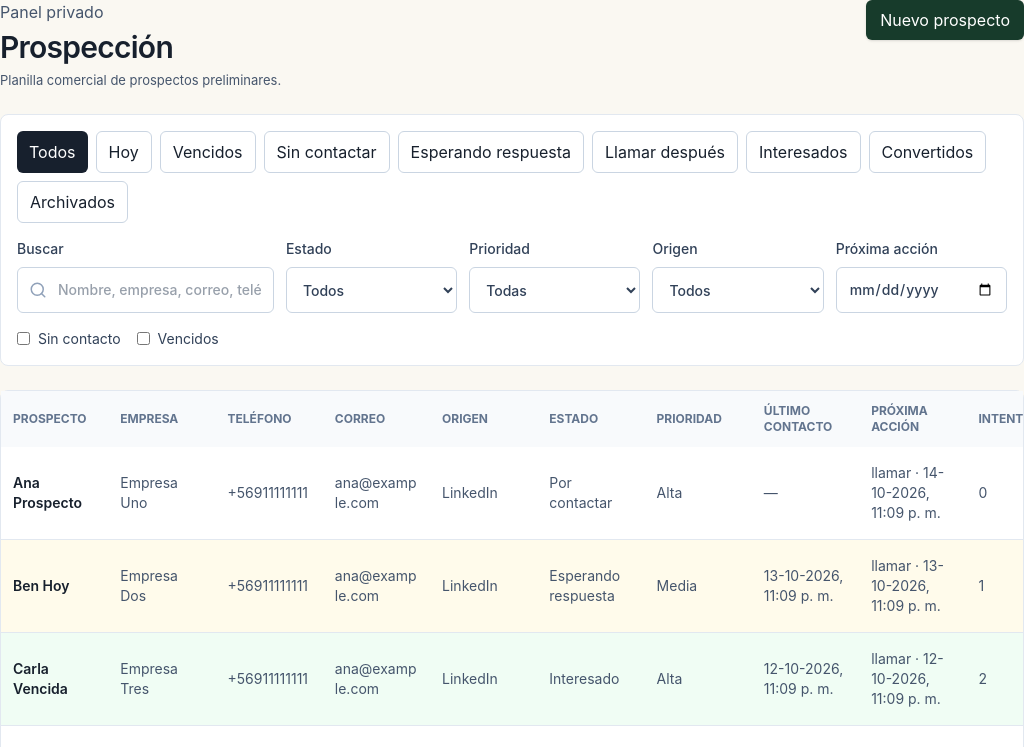
AdminProspecting › lists prospects with filters, today and overdue quick views, desktop table and mobile cards
expect the text "Ana Prospecto" is shown: met, box [1,447,108,540]
expect the column heading "Prospecto" is shown: met, box [1,391,108,447]
Click the button "Hoy" at (124, 152), box [96,131,152,173]
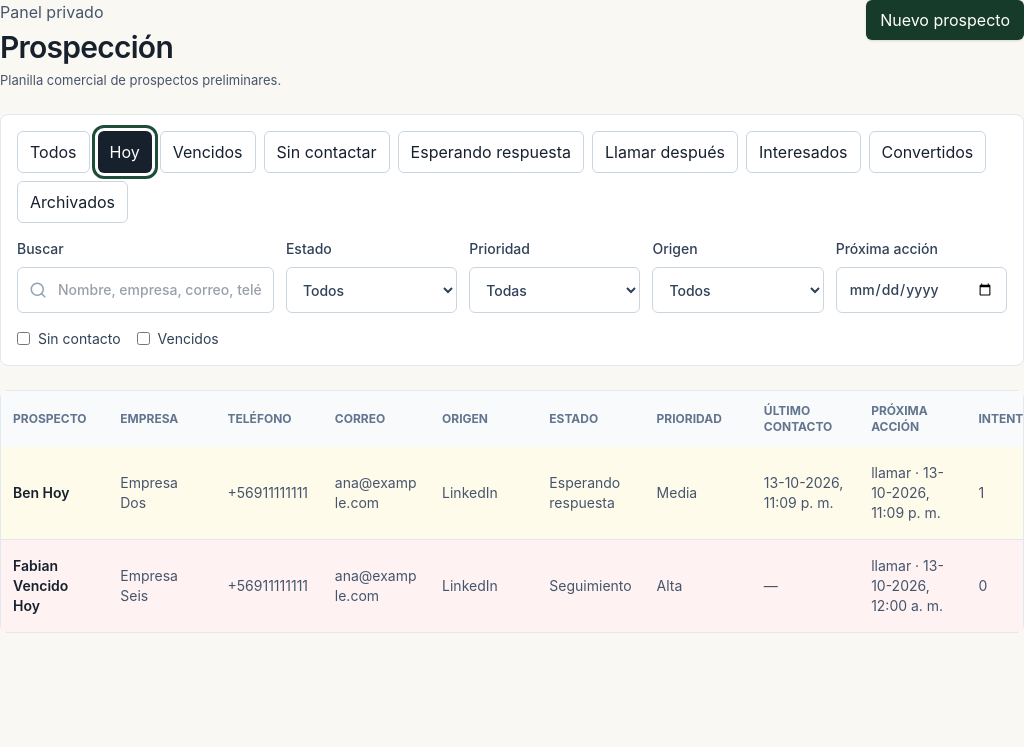
expect the text "Ben Hoy" is shown: met, box [1,447,108,540]
expect the text "Ana Prospecto" is gone: met
Click the button "Vencidos" at (208, 152), box [160,131,256,173]
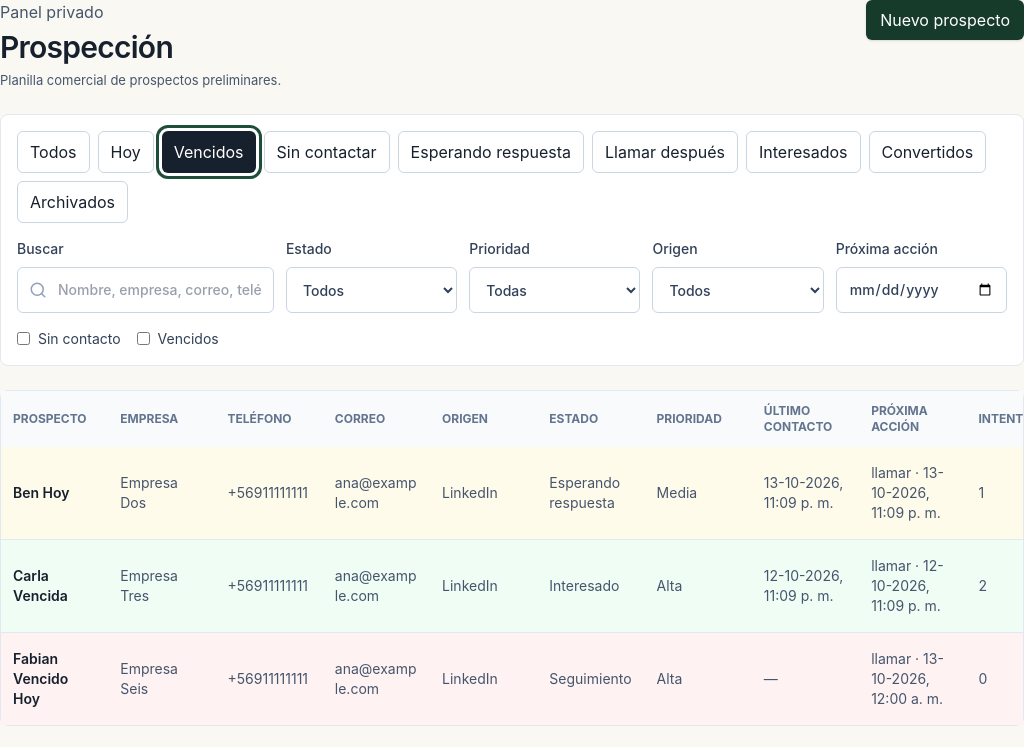
expect the text "Fabian Vencido Hoy" is shown: met, box [1,632,108,725]
expect the text "Carla Vencida" is shown: met, box [1,540,108,632]
